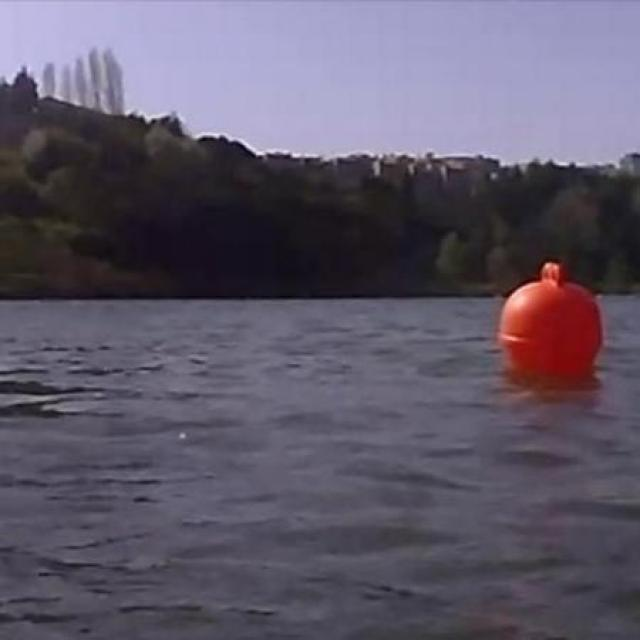buoy: (497, 262, 604, 379)
